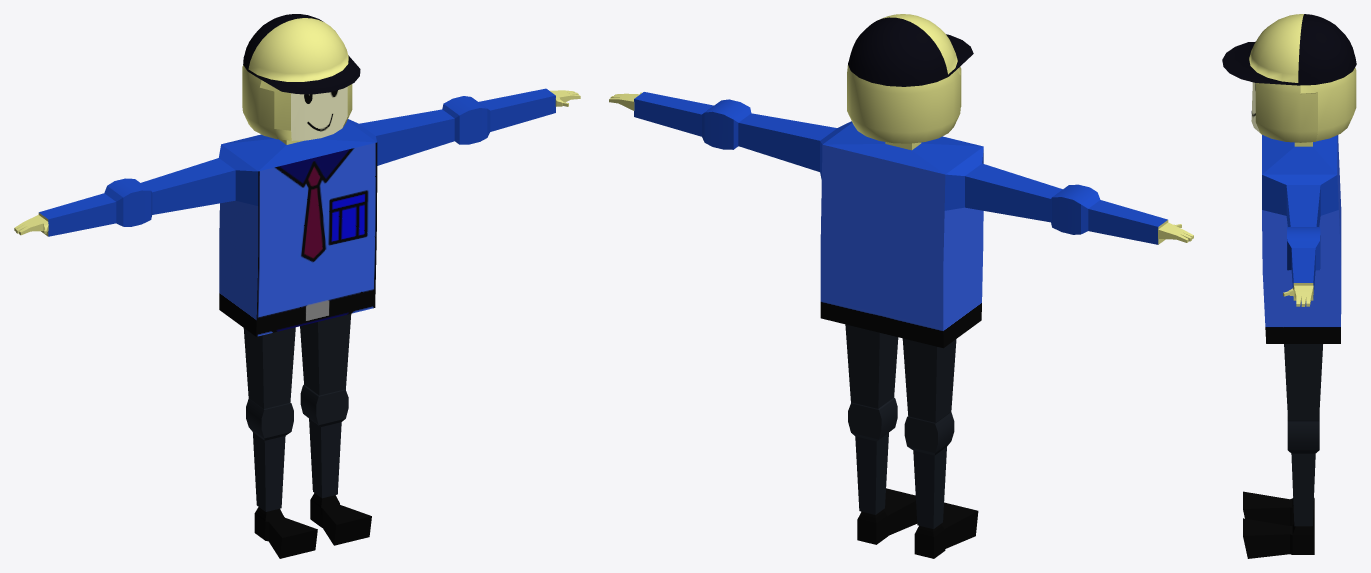
File: electrician.obj
3 renders of one model, left to right at view 1: azimuth 30°, elevation 25°; view 2: azimuth 150°, elevation 25°; view 3: azimuth 270°, elevation 25°, orthographic. The views are drawn at different scales.
Parts seen in each view (by area): view 1: electrician1; view 2: electrician1; view 3: electrician1.
Part boxes in pixels (x1=…): electrician1: x1=14, y1=14, x2=580, y2=558; electrician1: x1=609, y1=14, x2=1193, y2=558; electrician1: x1=1222, y1=14, x2=1356, y2=558.
Size of the model in its own units: 8.02 by 6.97 by 1.64.
Materials: 11 (5 with a texture image).
